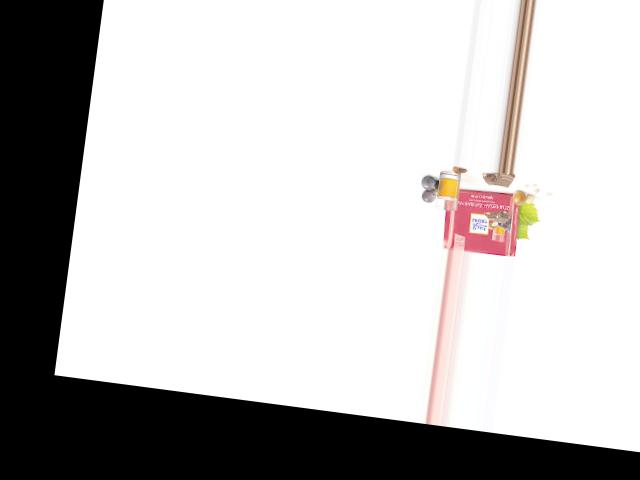chocolate: (442, 186, 525, 257)
